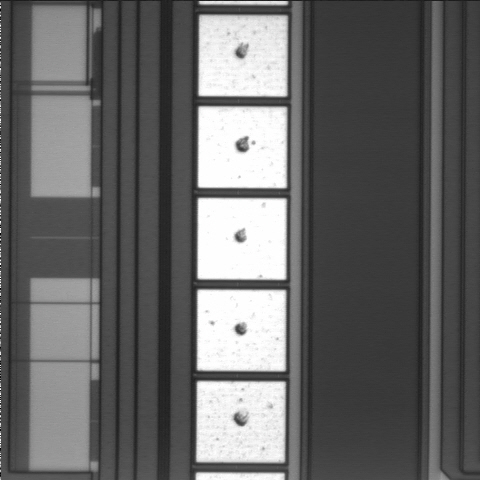pad: (197, 198, 287, 280), (198, 106, 287, 188), (196, 381, 285, 463), (199, 15, 287, 97), (197, 290, 286, 371)
